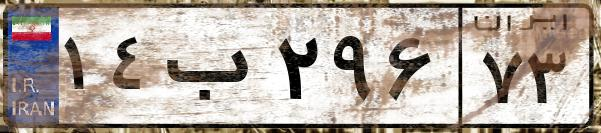1: (57, 26, 110, 100)
2: (270, 28, 330, 110)
3: (525, 38, 570, 115)
4: (110, 28, 158, 98)
6: (385, 28, 445, 110)
7: (475, 38, 525, 113)
9: (330, 28, 385, 110)
ب: (158, 20, 270, 120)
